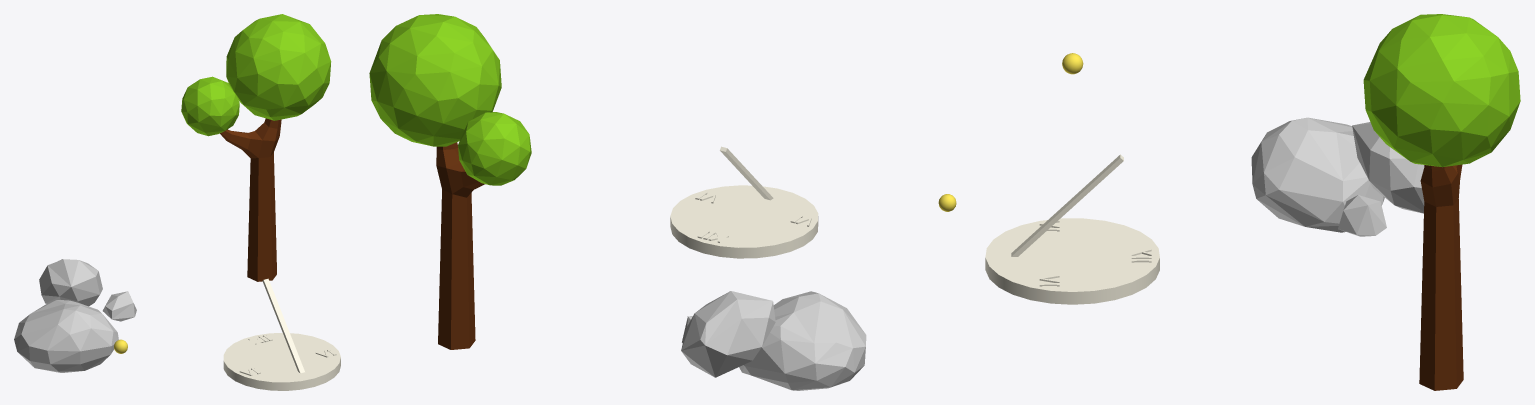
The model's file is sundial.glb.
The picture shows the model from 3 angles, left to right: view 1: azimuth 30°, elevation 25°; view 2: azimuth 150°, elevation 25°; view 3: azimuth 270°, elevation 25°; orthographic projection. The views are drawn at different scales.
Parts seen in each view (by area): view 1: Icosphere_Icosphere_002, MoText_2, Sphere_2, Cylinder_014, Icosphere_001_Icosphere_003, Sphere_001, Icosphere_001; view 2: Icosphere_Icosphere_002, MoText_2, Sphere_2, Cylinder_014, Sphere_001, Icosphere_001_Icosphere_003; view 3: Icosphere_Icosphere_002, MoText_2, Sphere_2, Cylinder_014, Sphere_001, Icosphere_001.
Boxes of the visible parts, x1,y1,x2,y2 form: Icosphere_Icosphere_002: (226, 14, 331, 120); MoText_2: (223, 278, 340, 390); Sphere_2: (14, 300, 118, 372); Cylinder_014: (220, 118, 281, 281); Icosphere_001_Icosphere_003: (181, 76, 239, 136); Sphere_001: (39, 259, 102, 306); Icosphere_001: (102, 291, 136, 321); Icosphere_Icosphere_002: (369, 14, 501, 146); MoText_2: (670, 146, 818, 258); Sphere_2: (739, 291, 866, 390); Cylinder_014: (436, 142, 484, 349); Sphere_001: (681, 291, 775, 377); Icosphere_001_Icosphere_003: (458, 112, 531, 185); Icosphere_Icosphere_002: (1363, 14, 1520, 167); MoText_2: (985, 154, 1159, 304); Sphere_2: (1251, 117, 1384, 232); Cylinder_014: (1419, 164, 1463, 390); Sphere_001: (1352, 122, 1424, 213); Icosphere_001: (1338, 195, 1386, 236).
Size of the model in its own units: 336 by 240 by 306.
